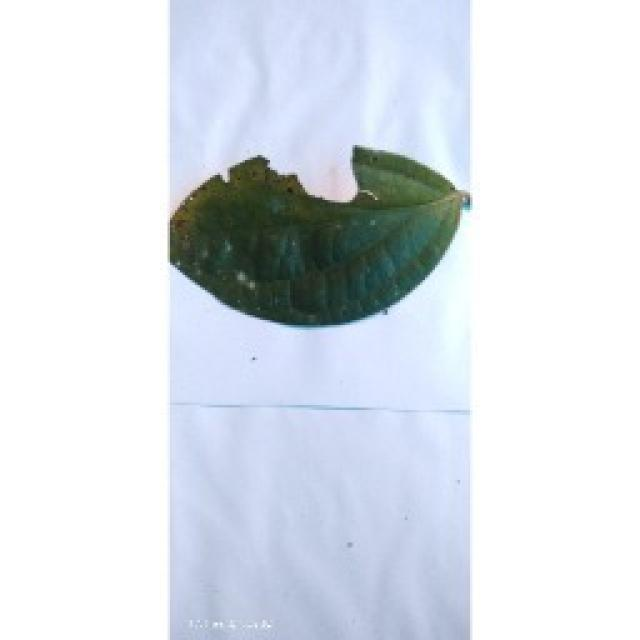slow-decline: (170, 143, 468, 325)
